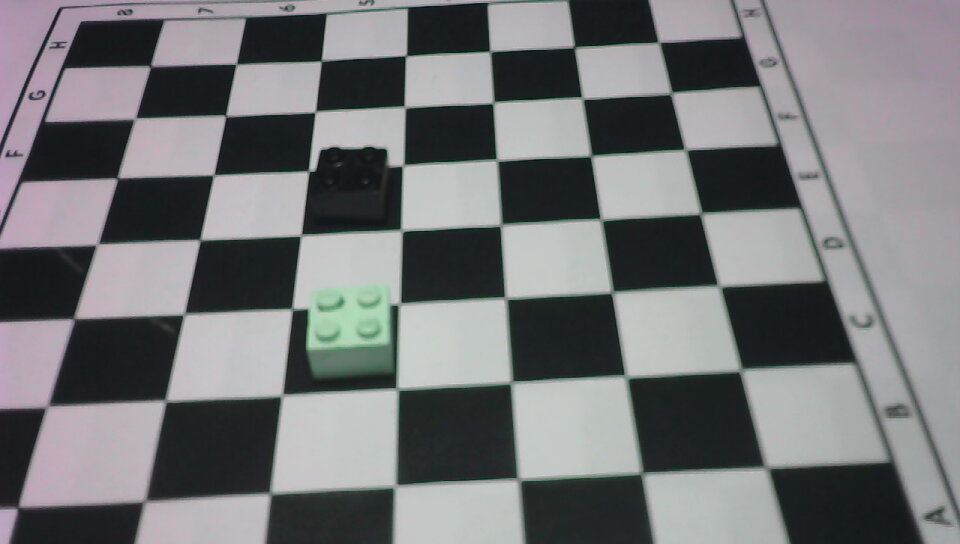bp: (308, 138, 392, 227)
